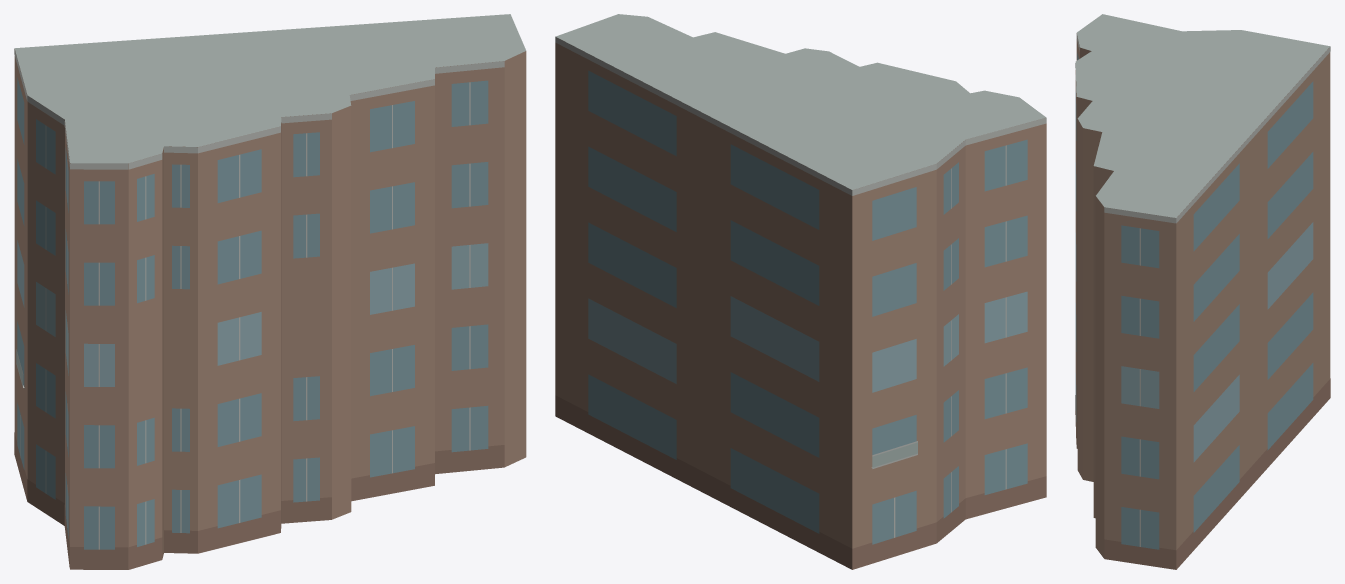
File: survey-upis-32567533.glb
3 views of the same model, side by side, from view 1: azimuth 30°, elevation 25°; view 2: azimuth 150°, elevation 25°; view 3: azimuth 270°, elevation 25° (orthographic). The views are drawn at different scales.
Parts seen in each view (by area): view 1: survey-upis-32567533.tmp; view 2: survey-upis-32567533.tmp; view 3: survey-upis-32567533.tmp.
Boxes of the visible parts, x1,y1,x2,y2 form: survey-upis-32567533.tmp: (14,14,526,569); survey-upis-32567533.tmp: (555,14,1046,569); survey-upis-32567533.tmp: (1075,14,1330,569).
Size of the model in its own units: 19.54 by 15.7 by 10.32.
